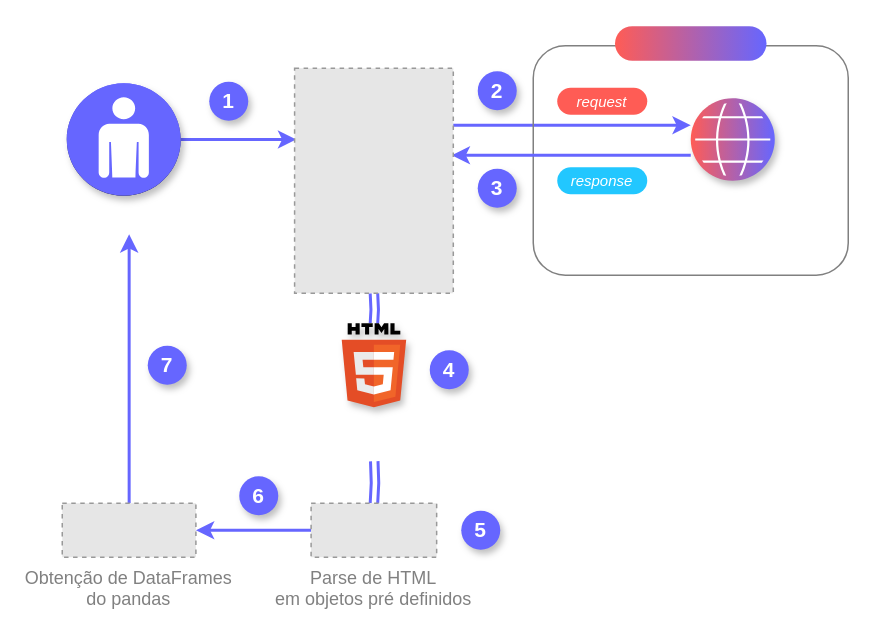
This 875x635 diagram has some shape labels left out. Grey dashed boxes stand in for pictures. The centre of each missing label's shape, as x and y in pixels:
"Conteúdo bruto em HTML" goes at (x=374, y=367).
"Portais e sites com informações de ativos financeiros" goes at (x=733, y=141).
"Scrappers" goes at (x=690, y=43).
"Usuário" goes at (x=124, y=141).
